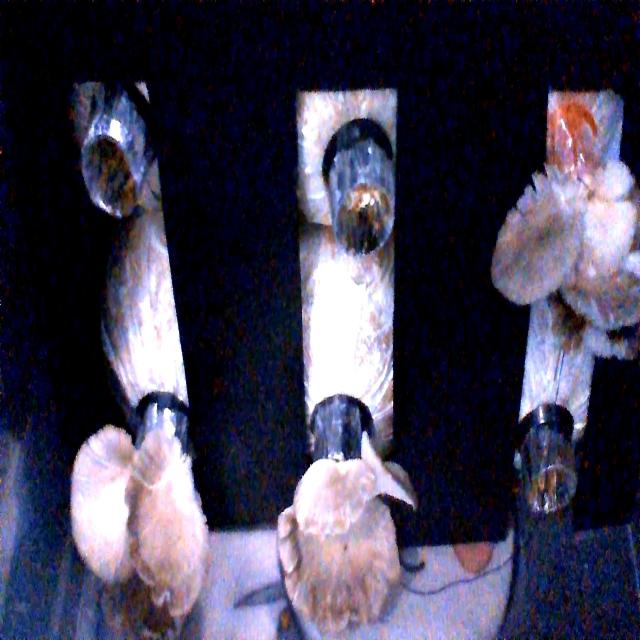big: (68, 439, 202, 594), (272, 468, 408, 609)
nfound: (81, 132, 136, 210), (516, 449, 582, 514), (331, 182, 389, 252)
